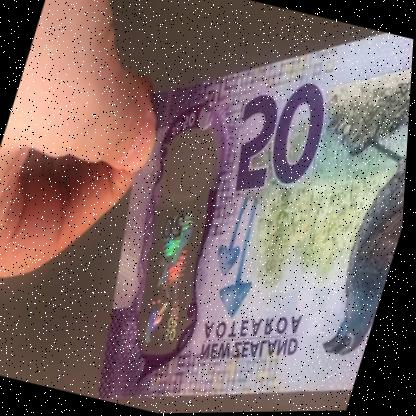50B: (119, 132, 239, 359)
